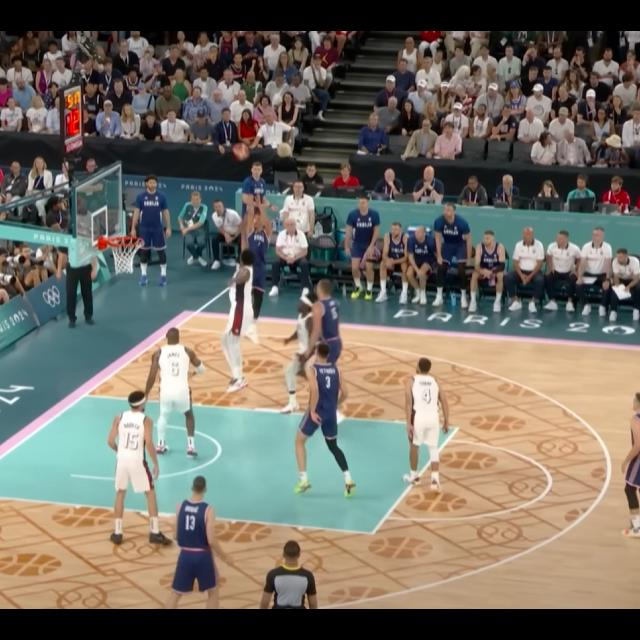basketball: (231, 142, 249, 160)
hoop: (105, 233, 144, 275)
